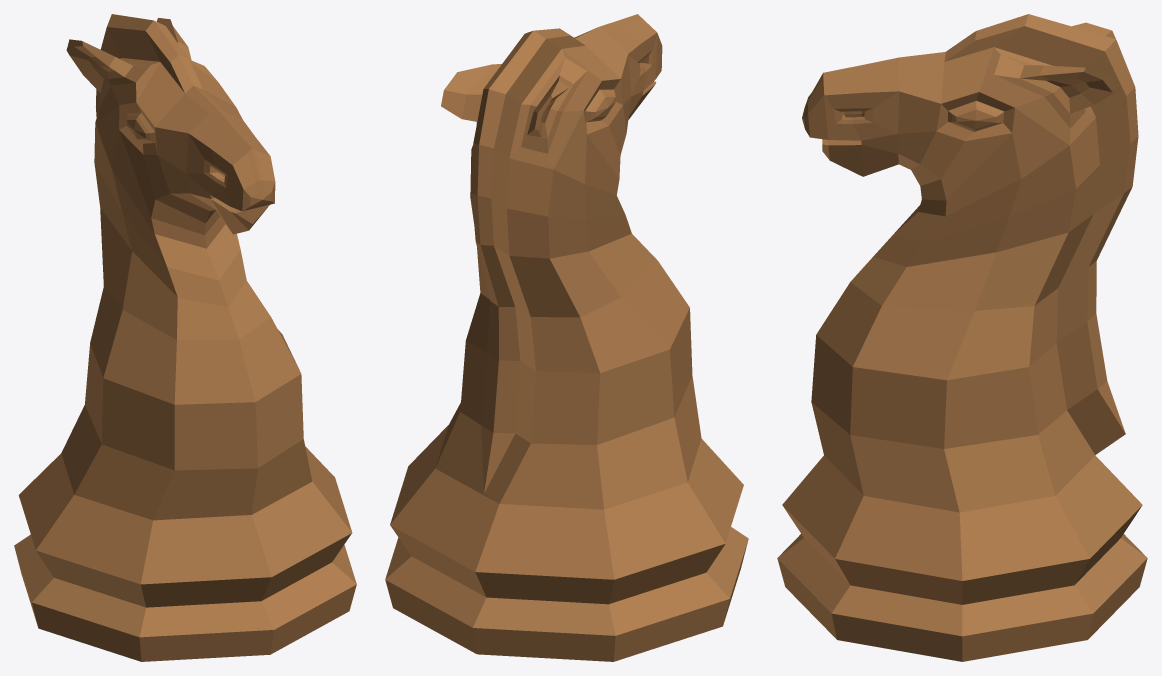
File: asset.glb
3 views of the same model, side by side, from view 1: azimuth 30°, elevation 25°; view 2: azimuth 150°, elevation 25°; view 3: azimuth 270°, elevation 25° (orthographic). The views are drawn at different scales.
Visible parts, largest first — view 1: Chess_Knight; view 2: Chess_Knight; view 3: Chess_Knight.
Boxes of the visible parts, box(x1,y1,x2,y2) form: Chess_Knight: box(14, 14, 356, 661); Chess_Knight: box(385, 14, 748, 661); Chess_Knight: box(777, 14, 1147, 661).
Size of the model in its own units: 3.93 by 6.7 by 3.93.
